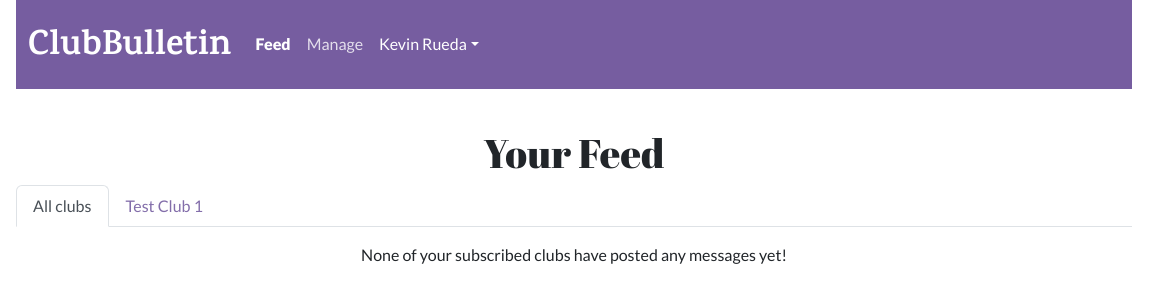
Test: Mock Feed when the user is subscribed to clubs with no posts › The 'No Subscriptions' messages are rendered
expect the text with test id "feed-no-posts-all-message" reads "None of your subscribed clubs have posted any messages yet!": met, box [361,244,787,264]
What coordinates should you click on to do the following:
click the link with test id "feed-club-selector-button" showing "Test Club 1"
I would click on:
 (164, 205)
Its box is [126,196,203,214].
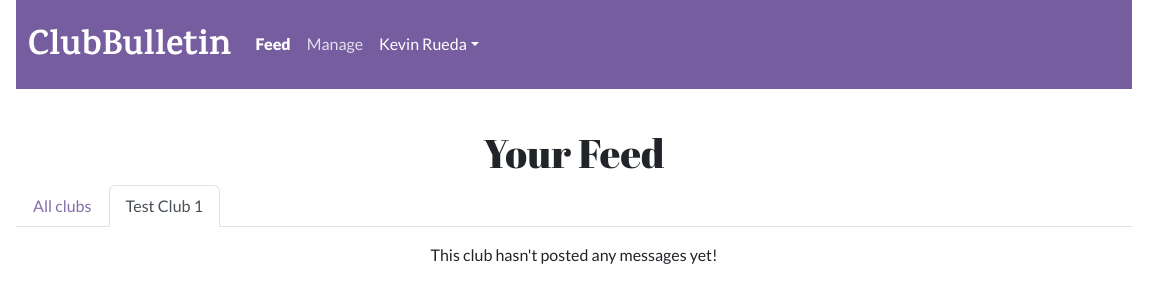
expect the text with test id "feed-no-posts-club-message" reads "This club hasn't posted any messages yet!": met, box [430,244,718,264]
